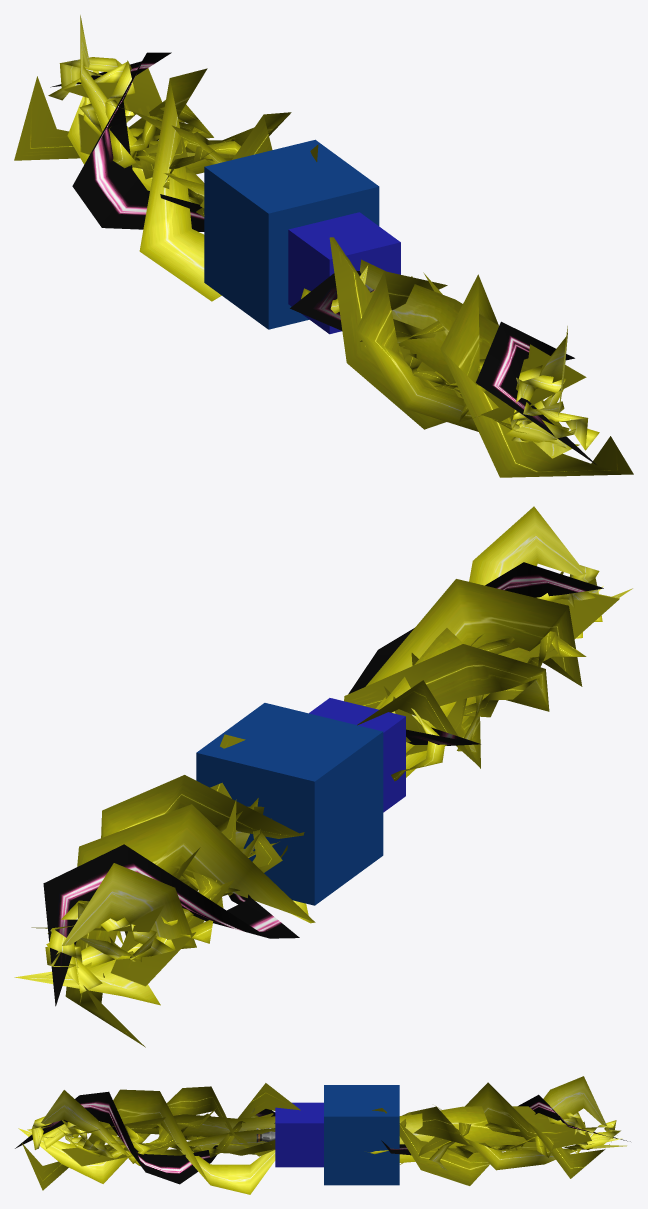
The picture shows the model from 3 angles, top to bottom: view 1: azimuth 30°, elevation 25°; view 2: azimuth 150°, elevation 25°; view 3: azimuth 270°, elevation 25°; orthographic projection. The views are drawn at different scales.
Visible parts, largest first — view 1: object0161_Box, object0129_Object17, object0060_Object09, object0049_Object10, object0132_Object18, object0164_Box, object0083_Object04, object0106_Object03, object0071_Object08, object0123_Object15, object0135_Object19, object0126_Object16 (+9 smaller); view 2: object0161_Box, object0129_Object17, object0060_Object09, object0132_Object18, object0126_Object16, object0049_Object10, object0106_Object03, object0144_Object20, object0071_Object08, object0164_Box, object0083_Object04, object0120_Object14 (+9 smaller); view 3: object0161_Box, object0060_Object09, object0144_Object20, object0135_Object19, object0164_Box, object0071_Object08, object0049_Object10, object0106_Object03, object0129_Object17, object0126_Object16, object0083_Object04, object0091_Plane31 (+11 smaller).
Boxes of the visible parts, box(x1,y1,x2,y2) form: object0161_Box: box(204, 139, 379, 329); object0129_Object17: box(14, 68, 221, 301); object0060_Object09: box(440, 274, 633, 477); object0049_Object10: box(356, 271, 579, 458); object0132_Object18: box(50, 52, 204, 231); object0164_Box: box(288, 212, 400, 334); object0083_Object04: box(359, 259, 586, 421); object0106_Object03: box(329, 237, 567, 429); object0071_Object08: box(290, 270, 596, 464); object0123_Object15: box(48, 57, 235, 168); object0135_Object19: box(62, 68, 226, 164); object0126_Object16: box(67, 70, 291, 207); object0161_Box: box(196, 703, 383, 905); object0129_Object17: box(65, 804, 315, 1047); object0060_Object09: box(366, 571, 582, 686); object0132_Object18: box(43, 844, 299, 1006); object0126_Object16: box(14, 775, 304, 1005); object0049_Object10: box(344, 588, 632, 714); object0106_Object03: box(357, 506, 586, 768); object0144_Object20: box(56, 734, 245, 954); object0071_Object08: box(348, 562, 603, 745); object0164_Box: box(309, 698, 405, 812); object0083_Object04: box(378, 592, 619, 756); object0120_Object14: box(45, 806, 282, 967); object0161_Box: box(324, 1085, 399, 1185); object0060_Object09: box(22, 1089, 275, 1194); object0144_Object20: box(372, 1076, 609, 1185); object0135_Object19: box(399, 1106, 591, 1150); object0164_Box: box(275, 1102, 323, 1167); object0071_Object08: box(15, 1091, 275, 1184); object0049_Object10: box(18, 1086, 271, 1183); object0106_Object03: box(41, 1083, 300, 1166); object0129_Object17: box(400, 1082, 615, 1178); object0126_Object16: box(402, 1106, 626, 1170); object0083_Object04: box(62, 1114, 275, 1137); object0091_Plane31: box(61, 1128, 275, 1166).
Size of the model in its own units: 0.6171 by 0.4859 by 2.79.
